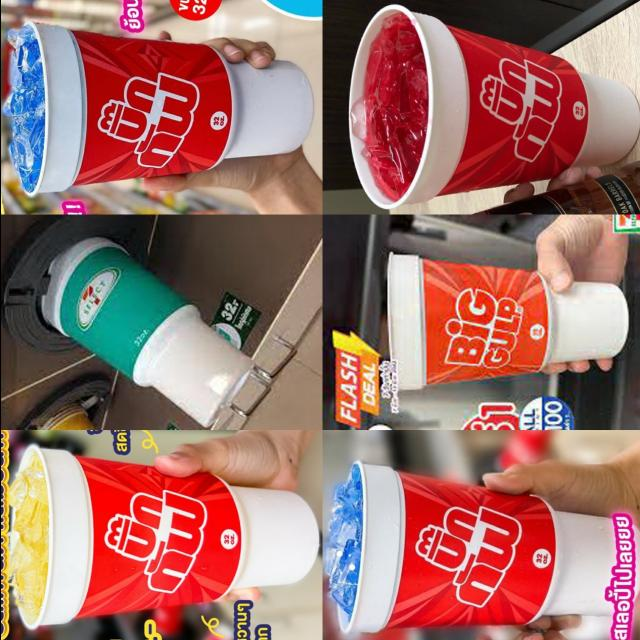plastik: (348, 5, 639, 209), (19, 446, 318, 629), (339, 462, 640, 632), (27, 22, 312, 193), (40, 238, 250, 427), (386, 254, 628, 389)
